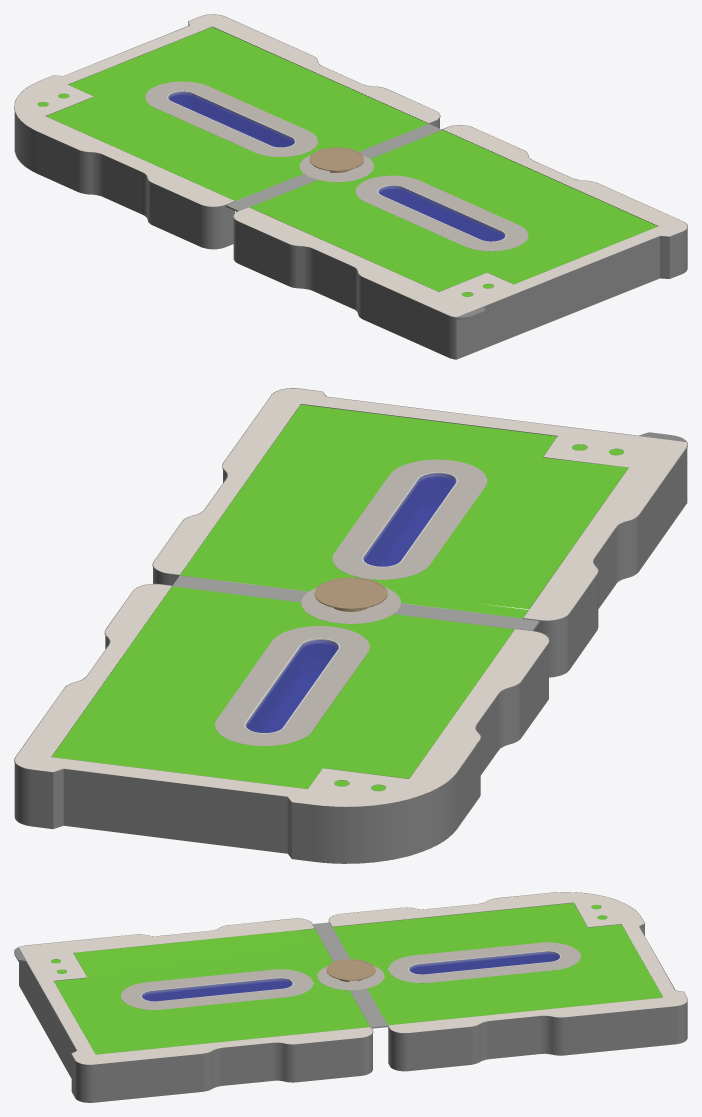
File: prland_Import3DFiles1.glb
3 renders of one model, top to bottom at view 1: azimuth 30°, elevation 25°; view 2: azimuth 150°, elevation 25°; view 3: azimuth 270°, elevation 25°, orthographic. The views are drawn at different scales.
Visible parts, largest first — view 1: mesh_material_from_multipatch, mesh_material_from_multipatch_6, mesh_material_from_multipatch_5, mesh_material_from_multipatch_3, mesh_material_from_multipatch_4, mesh_material_from_multipatch_9, mesh_material_from_multipatch_8, mesh_material_from_multipatch_12; view 2: mesh_material_from_multipatch, mesh_material_from_multipatch_6, mesh_material_from_multipatch_5, mesh_material_from_multipatch_3, mesh_material_from_multipatch_4, mesh_material_from_multipatch_9, mesh_material_from_multipatch_12, mesh_material_from_multipatch_8; view 3: mesh_material_from_multipatch, mesh_material_from_multipatch_6, mesh_material_from_multipatch_5, mesh_material_from_multipatch_3, mesh_material_from_multipatch_4, mesh_material_from_multipatch_9, mesh_material_from_multipatch_8, mesh_material_from_multipatch_12.
Boxes of the visible parts, <box> form: mesh_material_from_multipatch: <box>37,27,657,296</box>; mesh_material_from_multipatch_6: <box>14,14,687,359</box>; mesh_material_from_multipatch_5: <box>14,14,687,317</box>; mesh_material_from_multipatch_3: <box>145,81,528,251</box>; mesh_material_from_multipatch_4: <box>168,92,505,241</box>; mesh_material_from_multipatch_9: <box>225,124,441,211</box>; mesh_material_from_multipatch_8: <box>167,90,506,241</box>; mesh_material_from_multipatch_12: <box>309,147,363,172</box>; mesh_material_from_multipatch: <box>52,404,628,791</box>; mesh_material_from_multipatch_6: <box>14,388,687,863</box>; mesh_material_from_multipatch_5: <box>14,388,687,806</box>; mesh_material_from_multipatch_3: <box>215,459,487,745</box>; mesh_material_from_multipatch_4: <box>245,473,456,732</box>; mesh_material_from_multipatch_9: <box>172,575,539,630</box>; mesh_material_from_multipatch_12: <box>314,577,387,611</box>; mesh_material_from_multipatch_8: <box>244,472,457,733</box>; mesh_material_from_multipatch: <box>51,903,662,1054</box>; mesh_material_from_multipatch_6: <box>14,892,687,1102</box>; mesh_material_from_multipatch_5: <box>19,892,687,1064</box>; mesh_material_from_multipatch_3: <box>121,942,580,1009</box>; mesh_material_from_multipatch_4: <box>142,951,559,1001</box>; mesh_material_from_multipatch_9: <box>313,922,387,1028</box>; mesh_material_from_multipatch_8: <box>140,950,561,1001</box>; mesh_material_from_multipatch_12: <box>326,959,375,982</box>.
Bounding box in the file's own units: 204 × 24.42 × 336.
